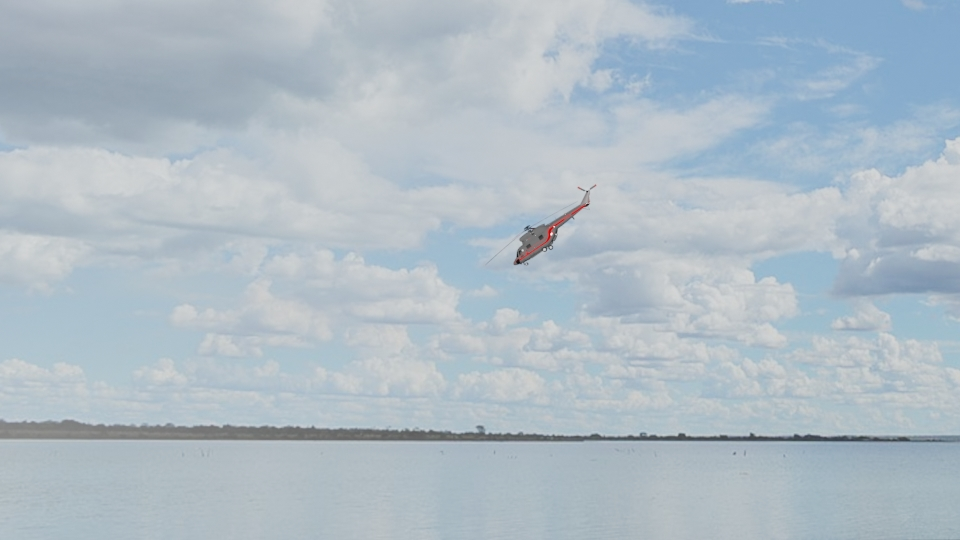heli: (511, 180, 601, 265)
